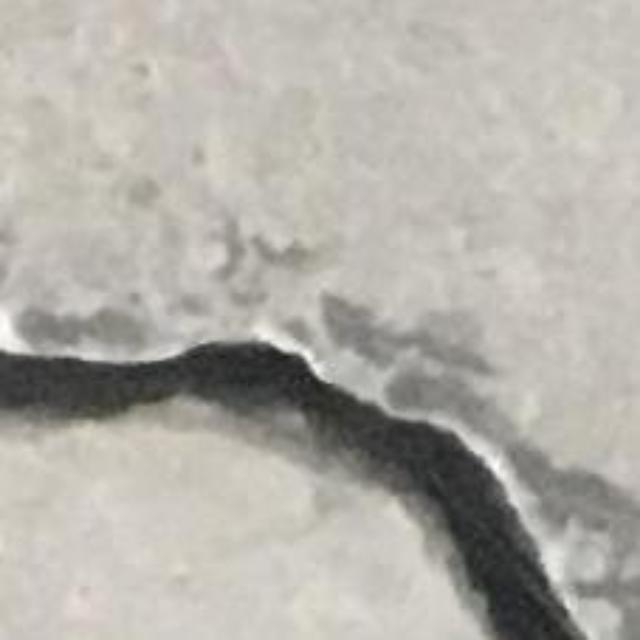crack: (0, 342, 586, 639)
